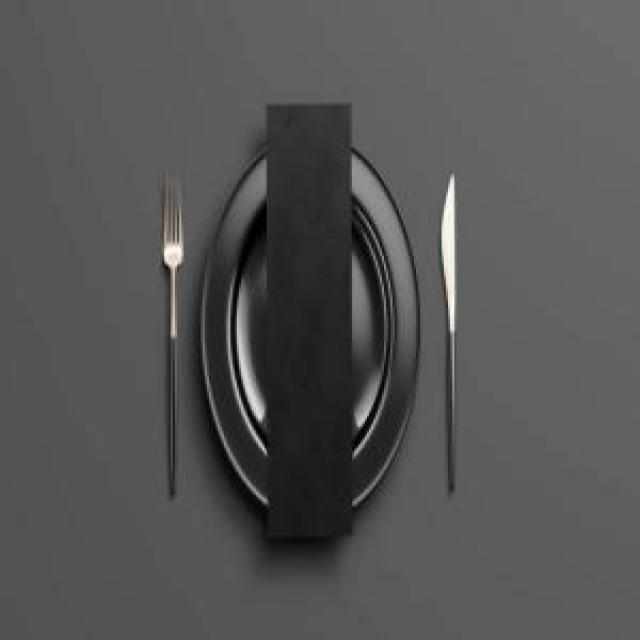knife: (442, 168, 461, 502)
